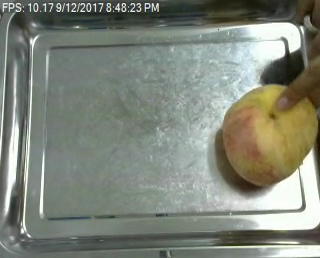Peach: (220, 82, 318, 186)
